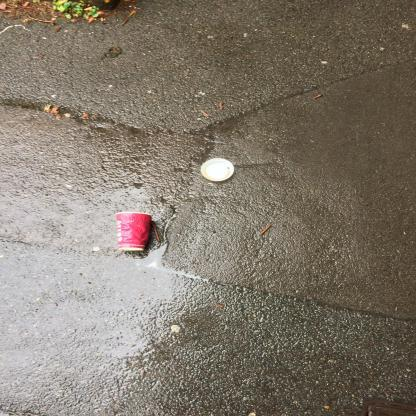karton: (118, 212, 153, 252)
plastik: (201, 159, 235, 183)
